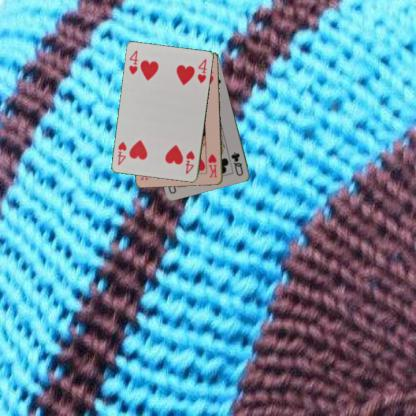4h: (183, 148, 196, 176), (127, 48, 139, 76)
Kh: (206, 152, 218, 178)
Qc: (229, 150, 244, 177)
